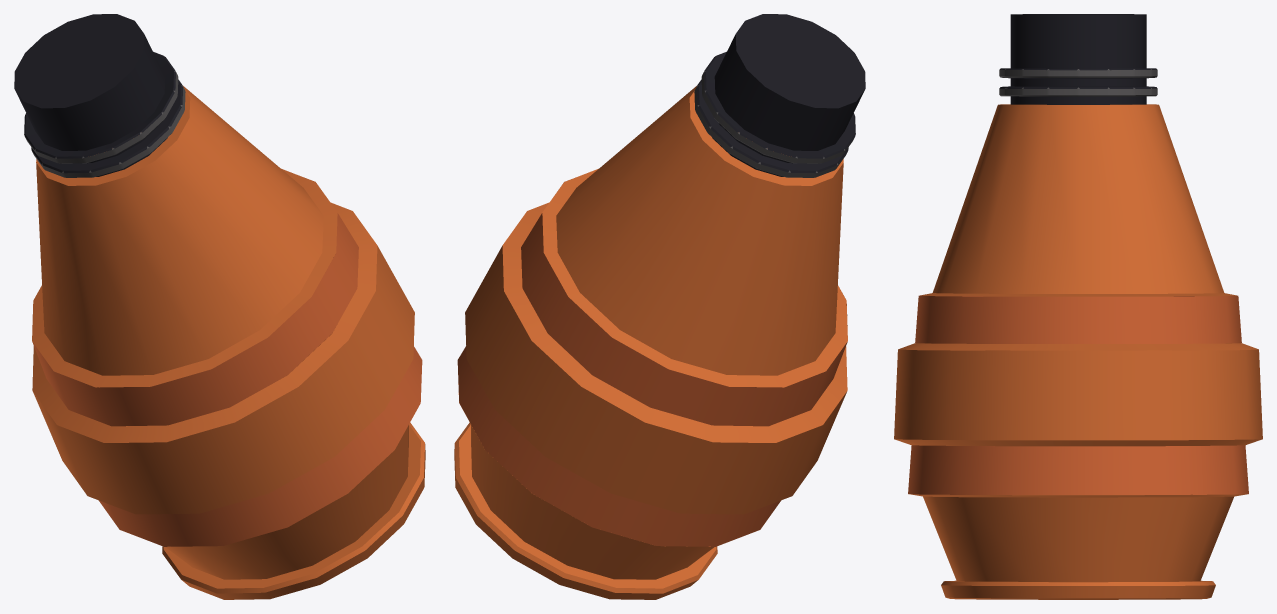
Rendered from l_hand.glb.
The picture shows the model from 3 angles, left to right: view 1: azimuth 30°, elevation 25°; view 2: azimuth 150°, elevation 25°; view 3: azimuth 270°, elevation 25°; orthographic projection. The views are drawn at different scales.
Visible parts, largest first — view 1: l_hand; view 2: l_hand; view 3: l_hand.
Boxes of the visible parts, x1,y1,x2,y2 form: l_hand: [14, 14, 425, 599]; l_hand: [454, 14, 865, 599]; l_hand: [894, 14, 1262, 599].
Bounding box in the file's own units: 0.8173 × 1.18 × 0.708.
